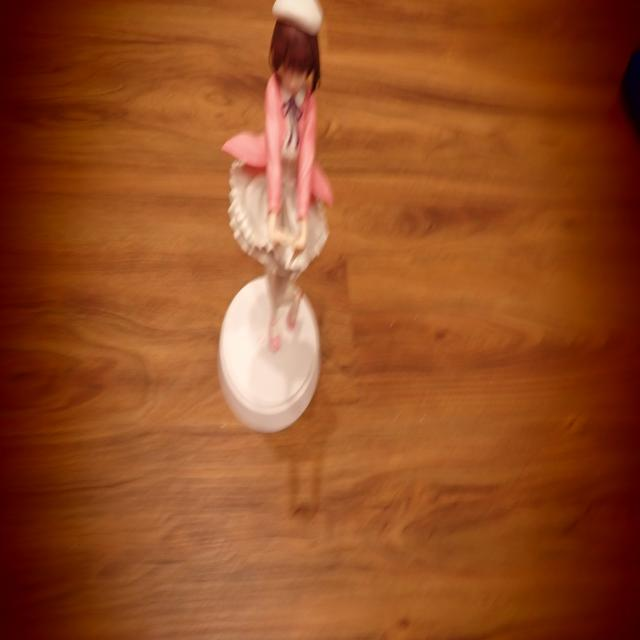My-pink-anime-figure: (223, 0, 333, 351)
